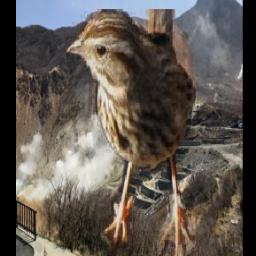Sparrow: (63, 10, 197, 256)
